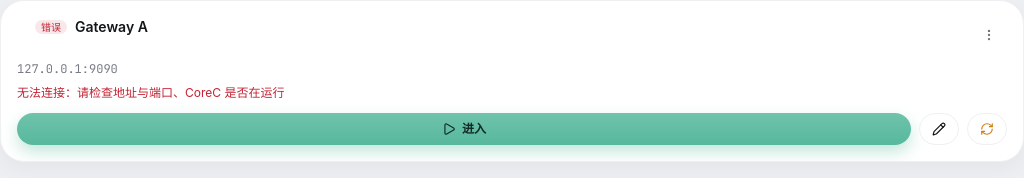
InstanceCard error-state retry › retries the probe from a failed card and records the fresh verdict
This screenshot has width=1024, height=178.
What coordinates should you click on to do the following:
click the button named "重试连接"
I would click on:
 (987, 129)
Its box is [967,113,1007,145].
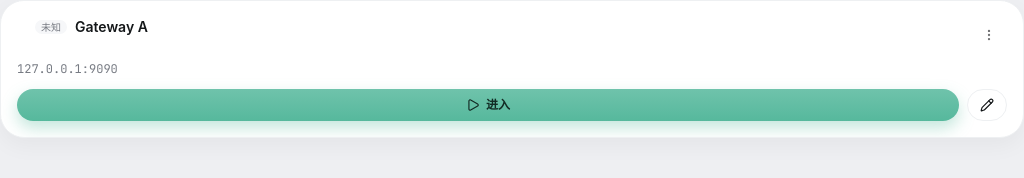
Result: the button "重试连接" is gone
